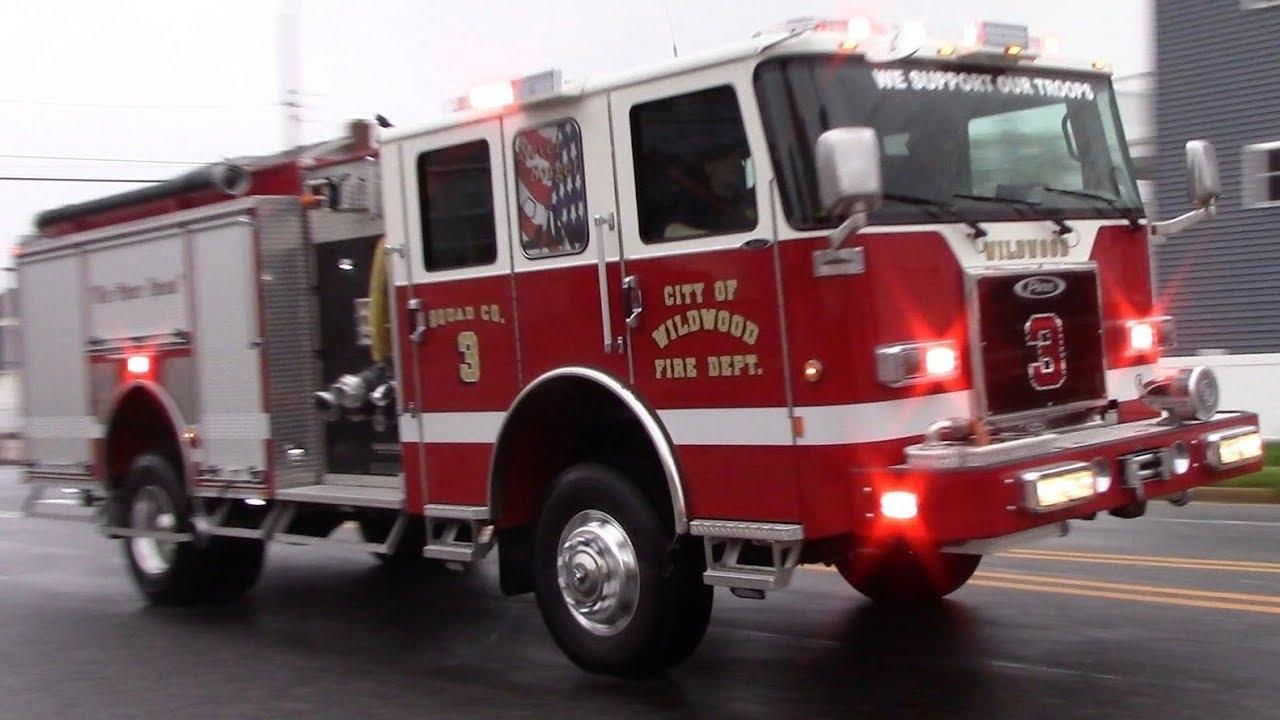Fire-engine: (0, 14, 1265, 681)
